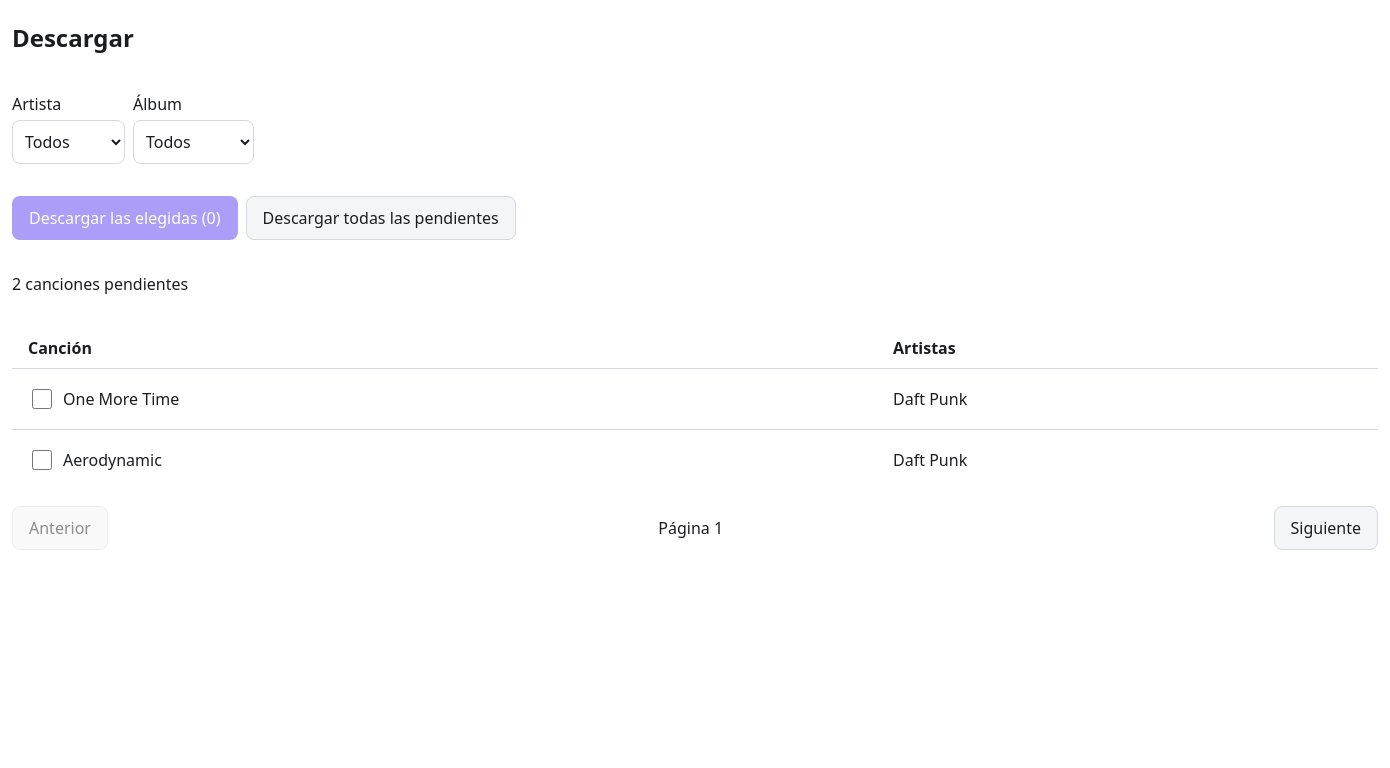
Test: DownloadView › si al lanzar otra ya ha empezado (409), sigue esa
Click the button "Descargar todas las pendientes" at coordinates (381, 218), box left=246, top=196, right=516, bottom=240
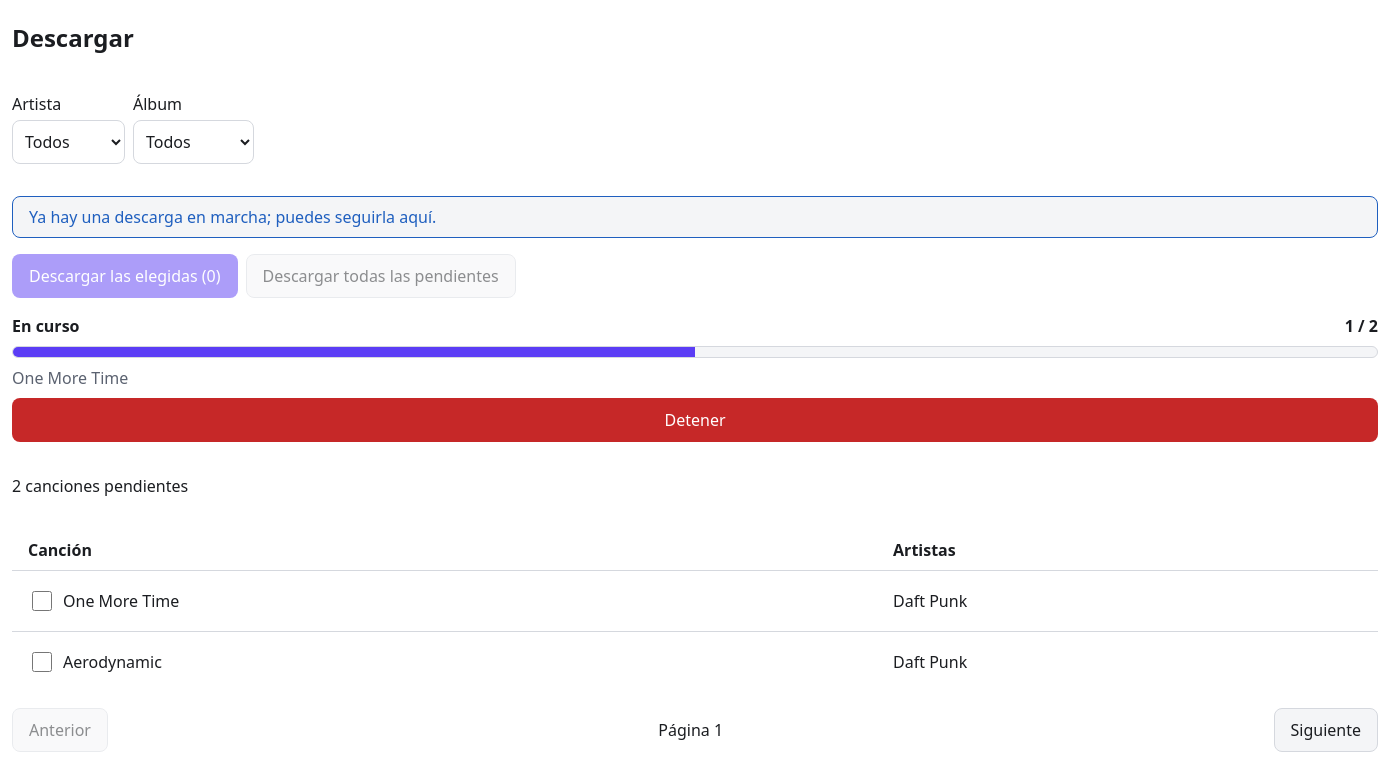
Result: the text "En curso" is shown at left=12, top=314, right=80, bottom=338
